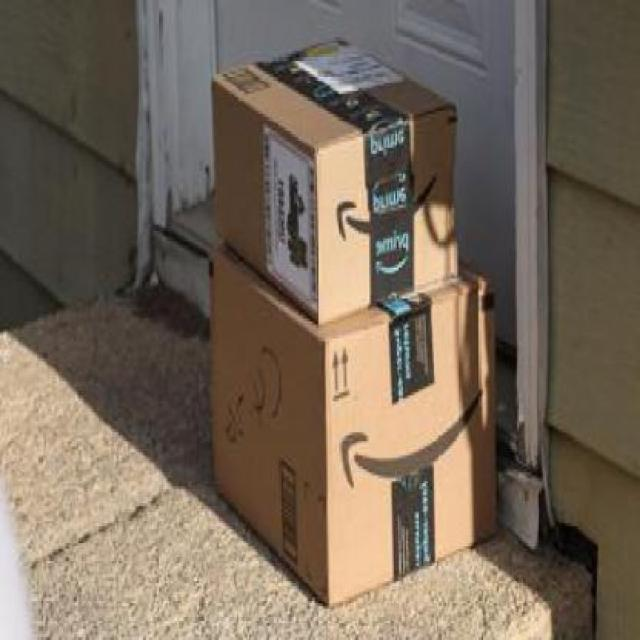cardboxes: (208, 246, 500, 611), (210, 33, 458, 322)
